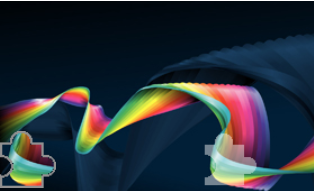target: (202, 131, 261, 187)
